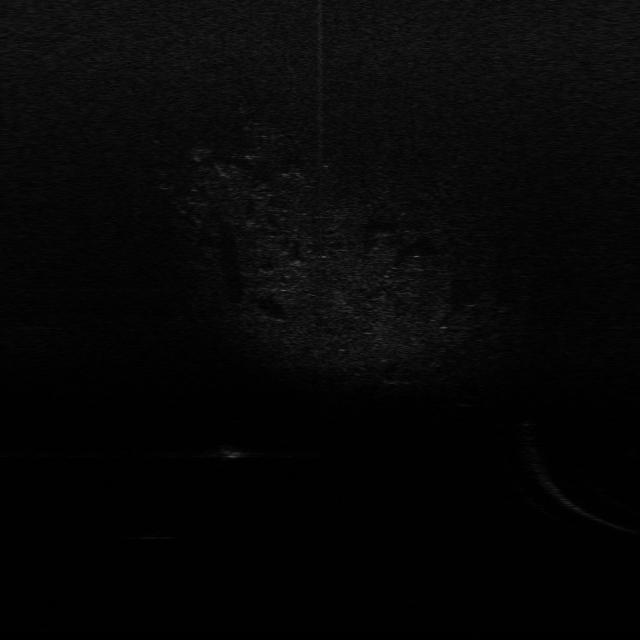square cage: (213, 435, 256, 462)
